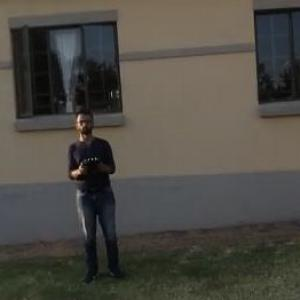follow: (63, 99, 127, 288)
